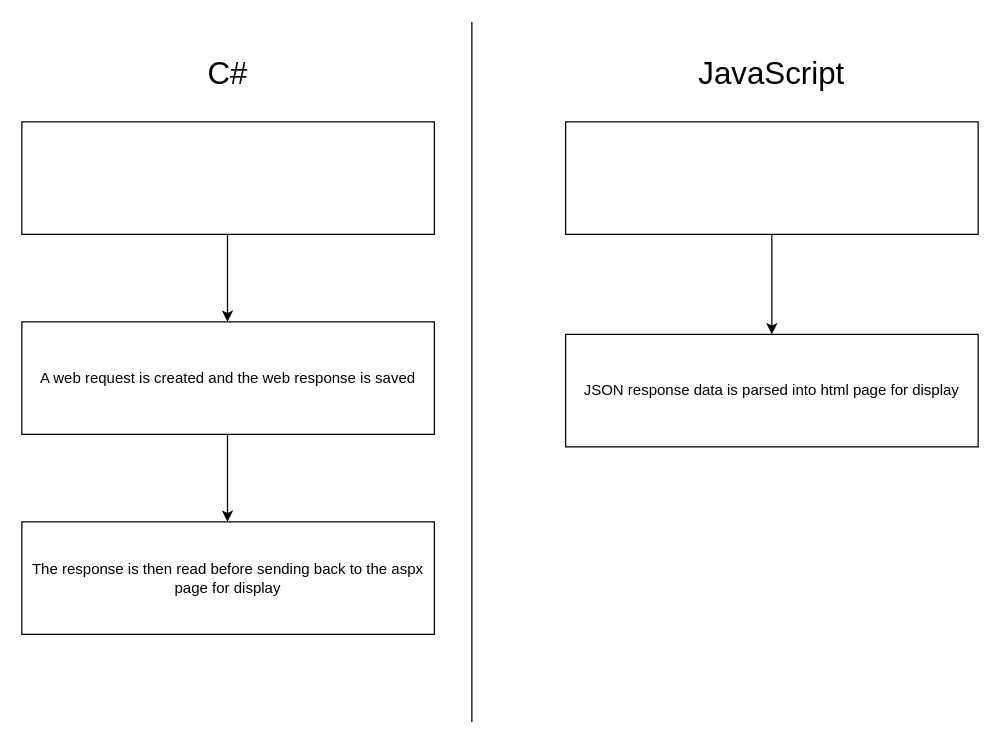
Some shapes in this 1000 by 745 pixel diagram are drawn without their labels. Each missing label, with the centre of its shape:
"Client sends request for web service" belongs at (x=227, y=177).
"Function is triggered that makes an AJAX call to the web service API" belongs at (x=771, y=177).
